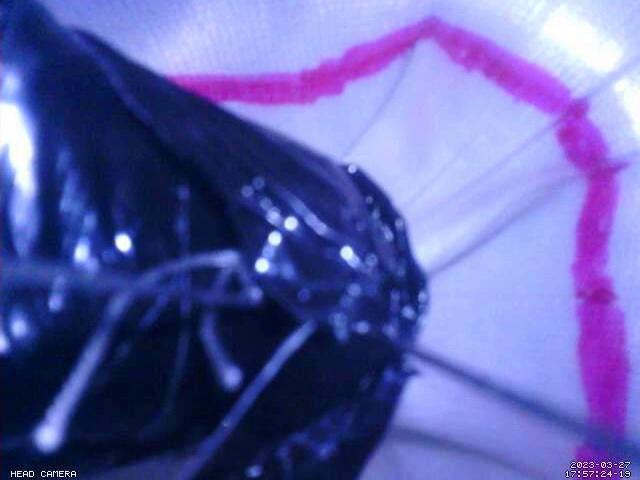red-circle: (163, 14, 632, 480)
